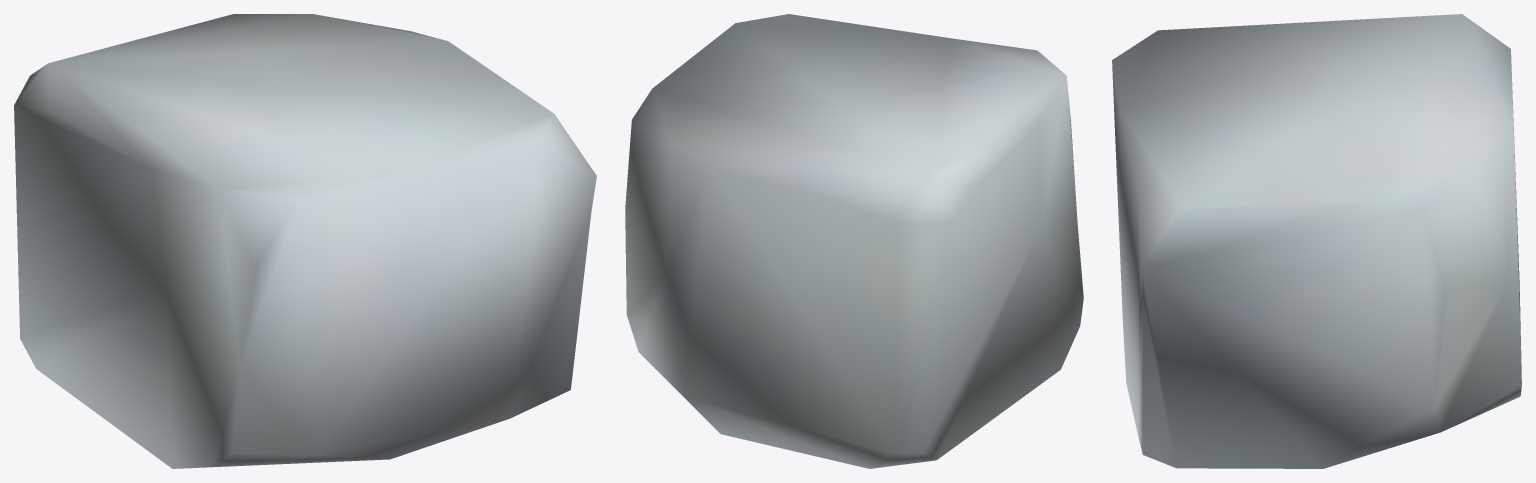
Rendered from P_RockCubic04.obj.
The picture shows the model from 3 angles, left to right: view 1: azimuth 30°, elevation 25°; view 2: azimuth 150°, elevation 25°; view 3: azimuth 270°, elevation 25°; orthographic projection. The views are drawn at different scales.
Bounding box in the file's own units: 1.16 × 0.8332 × 1.06.
